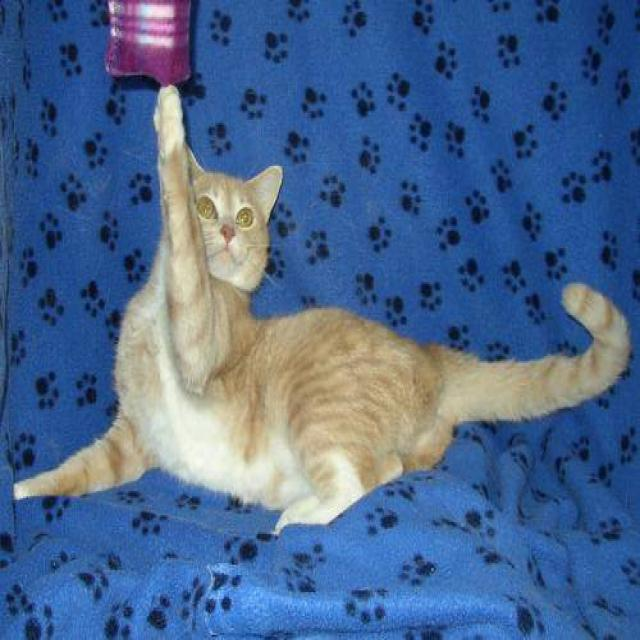cat: (12, 82, 631, 536)
